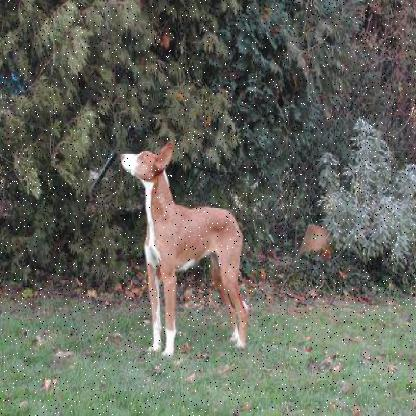dog: (115, 140, 254, 358)
